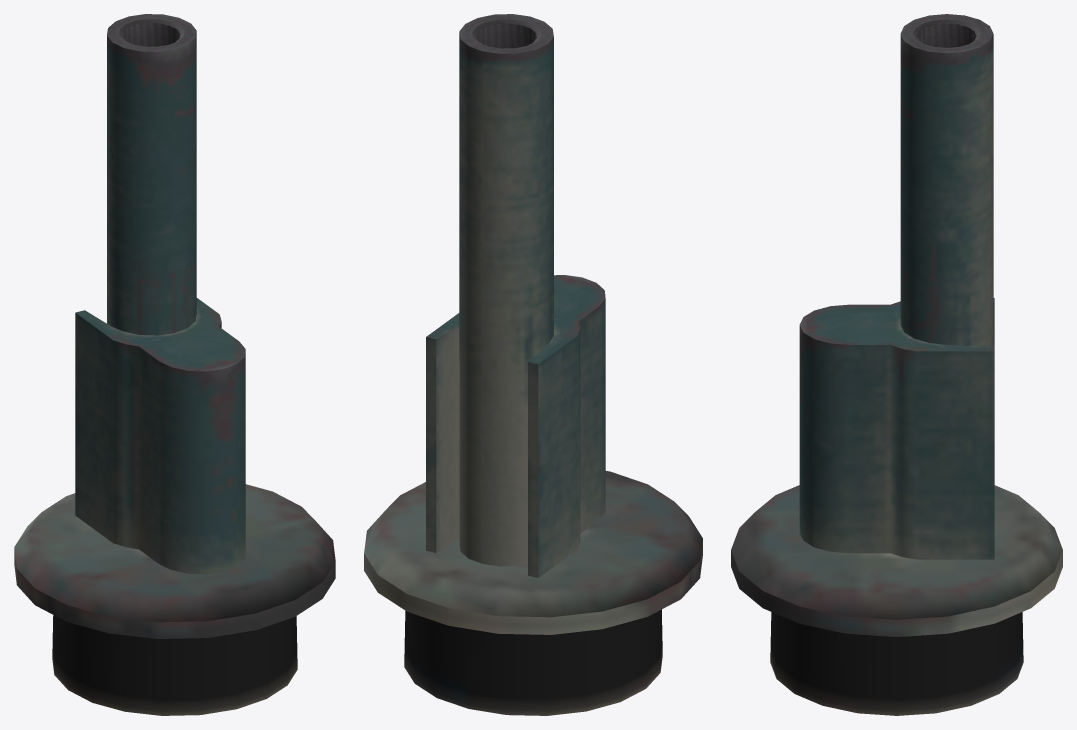
File: Gun_03.glb
3 views of the same model, side by side, from view 1: azimuth 30°, elevation 25°; view 2: azimuth 150°, elevation 25°; view 3: azimuth 270°, elevation 25° (orthographic). The views are drawn at different scales.
Visible parts, largest first — view 1: set_0_group_0; view 2: set_0_group_0; view 3: set_0_group_0.
Part boxes in pixels (left/top/right/bottom): set_0_group_0: left=14, top=14, right=335, bottom=715; set_0_group_0: left=364, top=14, right=702, bottom=715; set_0_group_0: left=731, top=14, right=1062, bottom=715.
Bounding box in the file's own units: 0.2629 × 0.5499 × 0.2629.
1 material, 1 textured.
